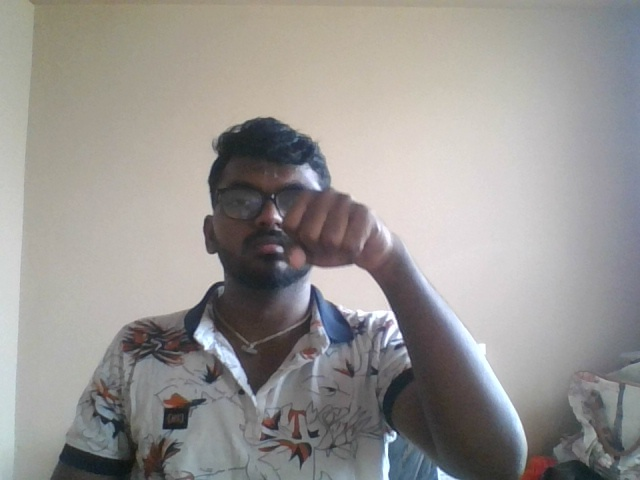Yes: (264, 178, 423, 321)
